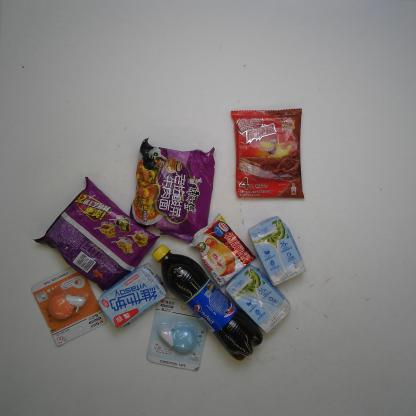Dessert: (229, 105, 306, 199), (186, 210, 257, 288)
Drink: (150, 242, 264, 363)
Instant Noodles: (31, 175, 162, 297), (127, 137, 221, 249)
Milk: (95, 261, 172, 331), (244, 213, 310, 289), (224, 264, 293, 332)
Stationery: (29, 260, 106, 348), (144, 294, 213, 372)
